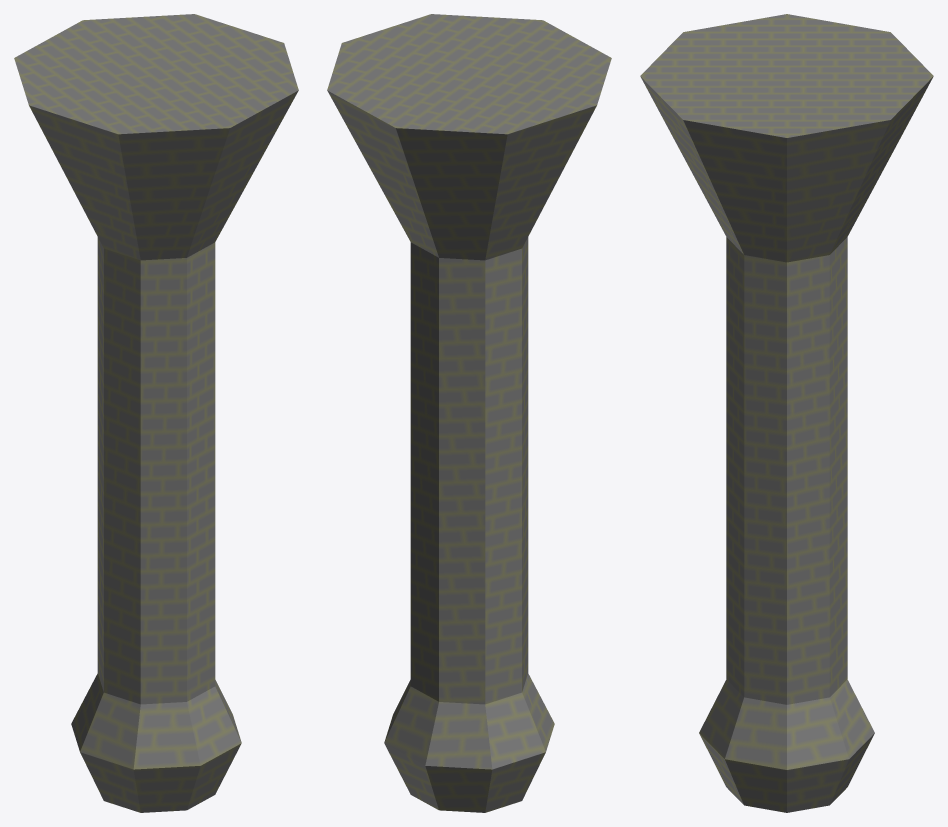
File: Pillar.fbx
3 renders of one model, left to right at view 1: azimuth 30°, elevation 25°; view 2: azimuth 150°, elevation 25°; view 3: azimuth 270°, elevation 25°, orthographic.
Visible parts, largest first — view 1: Pillar_geo; view 2: Pillar_geo; view 3: Pillar_geo.
Boxes of the visible parts, x1=… form: Pillar_geo: x1=14, y1=14, x2=298, y2=812; Pillar_geo: x1=327, y1=14, x2=611, y2=812; Pillar_geo: x1=640, y1=14, x2=933, y2=812.
Bounding box in the file's own units: 4.85 × 12.96 × 4.85.
